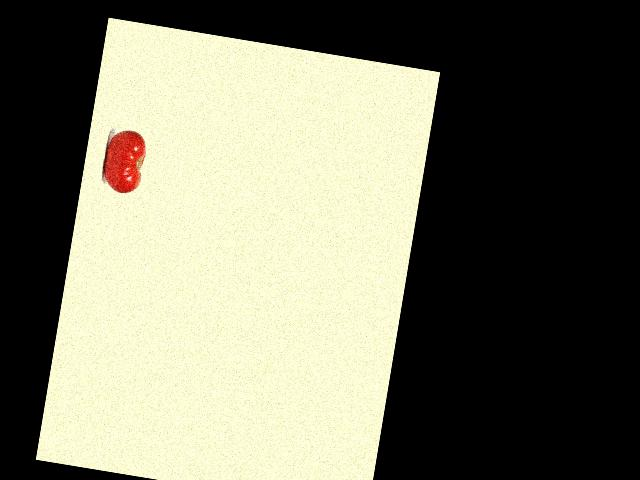tomato: (100, 127, 148, 196)
